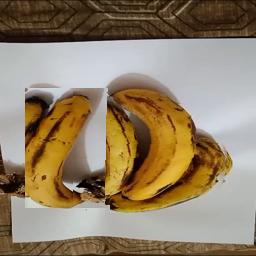Banana Semifresh: (110, 83, 232, 213), (25, 88, 108, 208), (74, 91, 140, 205)
